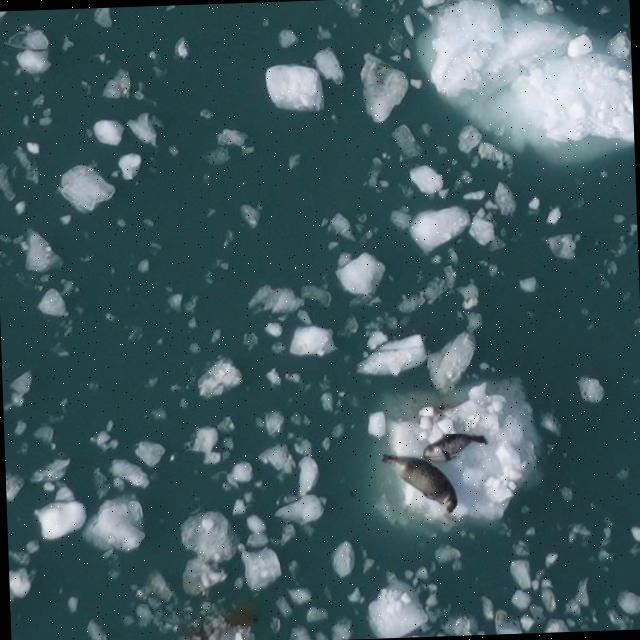seal: (380, 453, 457, 512), (424, 433, 484, 457)
